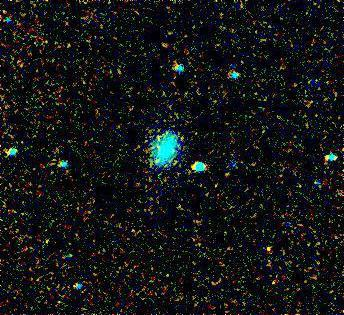star: (256, 268, 286, 298)
